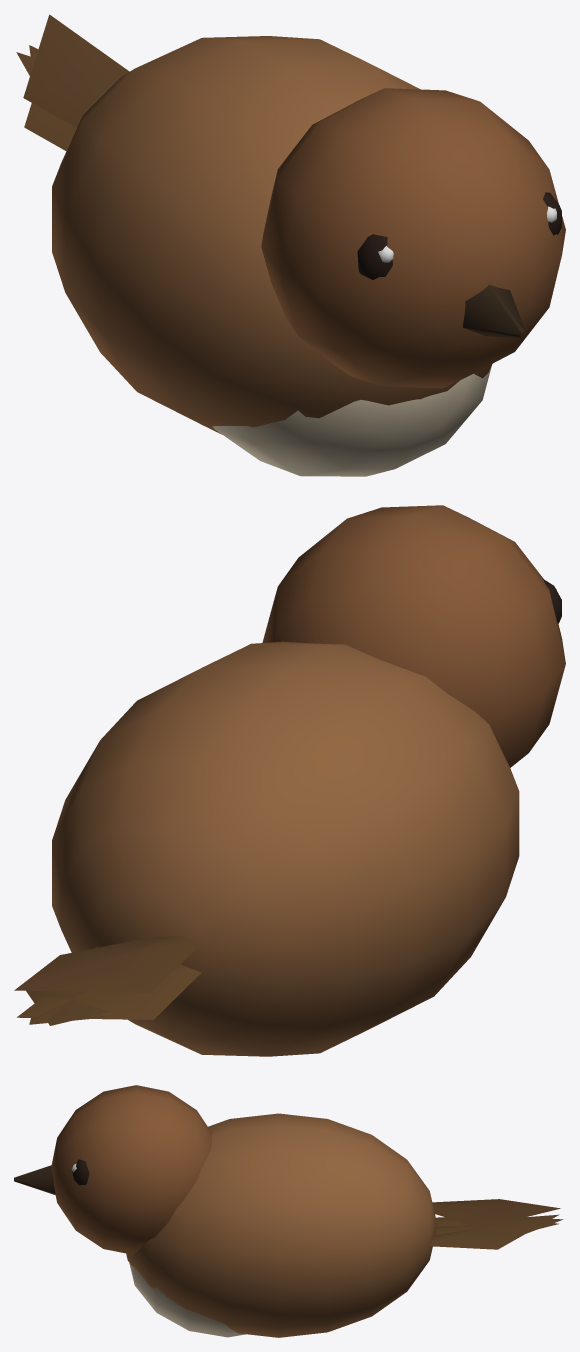
File: flock-bird.glb
3 views of the same model, one above another, from view 1: azimuth 30°, elevation 25°; view 2: azimuth 150°, elevation 25°; view 3: azimuth 270°, elevation 25° (orthographic). The views are drawn at different scales.
Visible parts, largest first — view 1: flock-bird; view 2: flock-bird; view 3: flock-bird.
Boxes of the visible parts, x1,y1,x2,y2 form: flock-bird: [16, 14, 565, 476]; flock-bird: [14, 505, 565, 1056]; flock-bird: [14, 1085, 563, 1337].
Bounding box in the file's own units: 0.117 × 0.1275 × 0.271.
